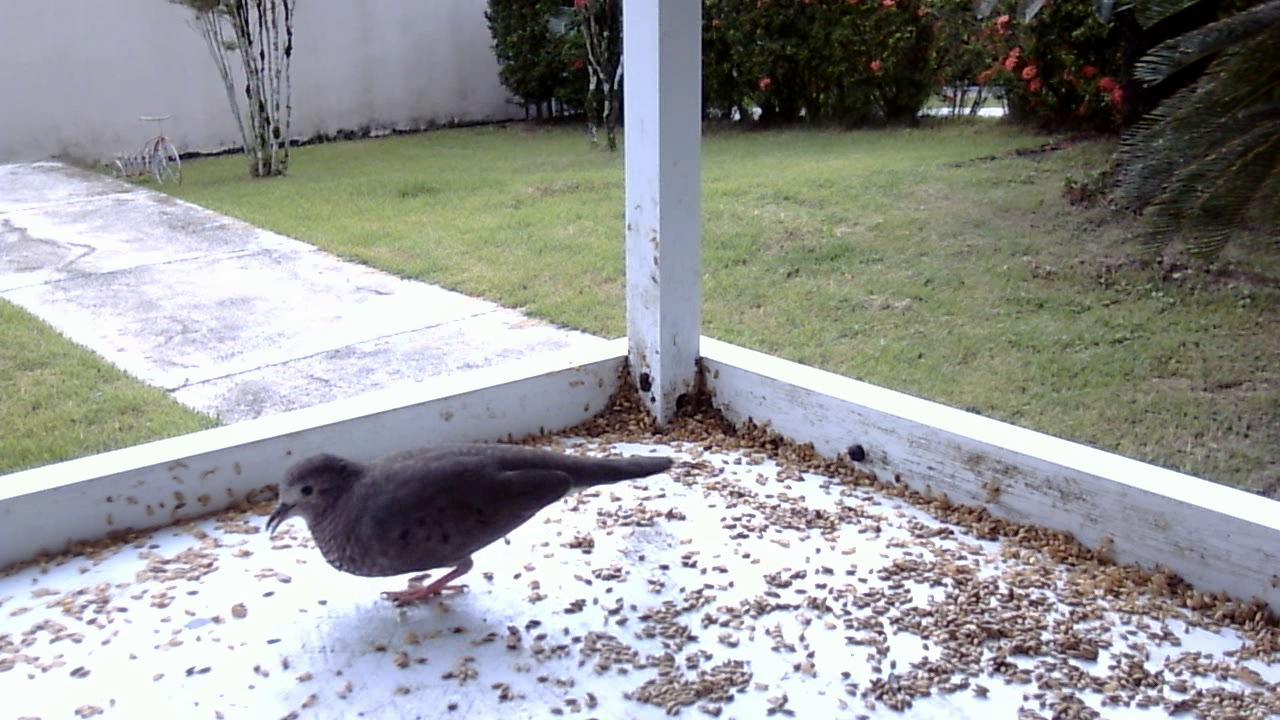rolinha: (258, 425, 680, 625)
